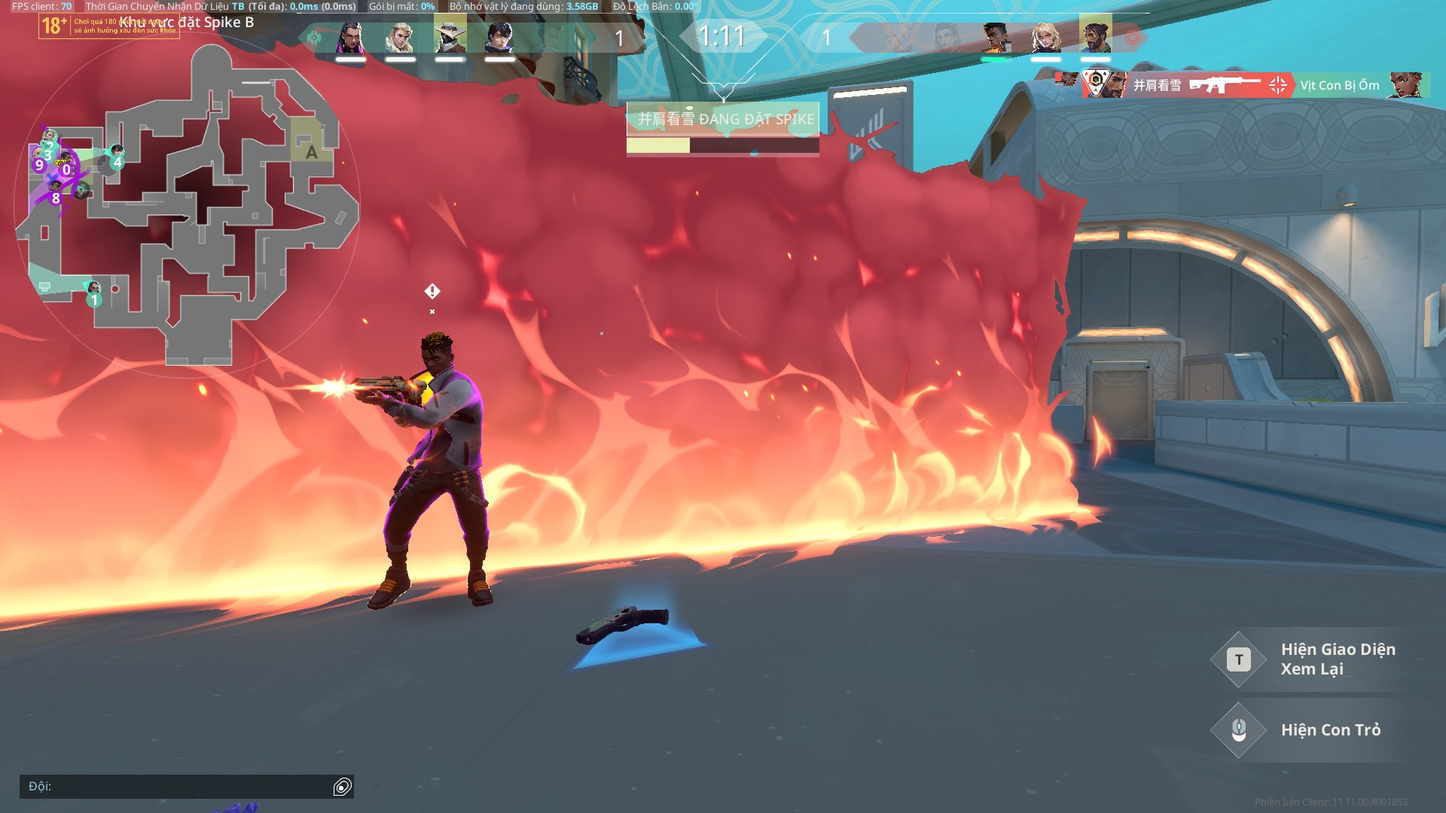body: (422, 373, 484, 460)
head: (419, 333, 457, 374)
